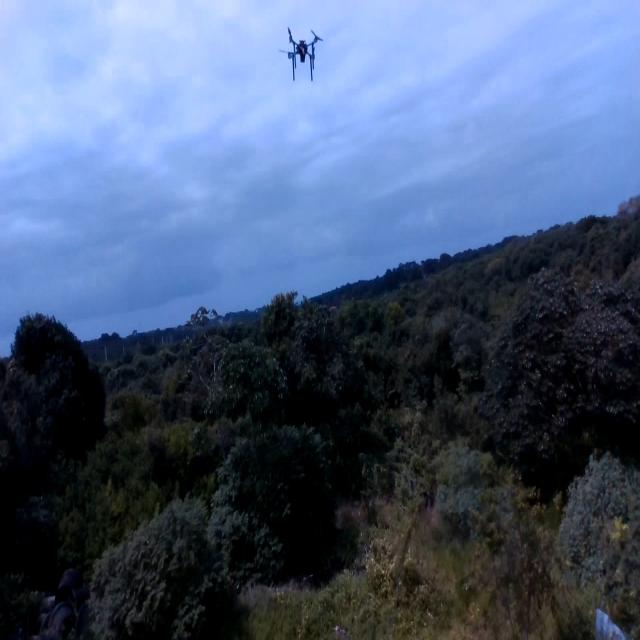-uav-: (274, 18, 332, 81)
